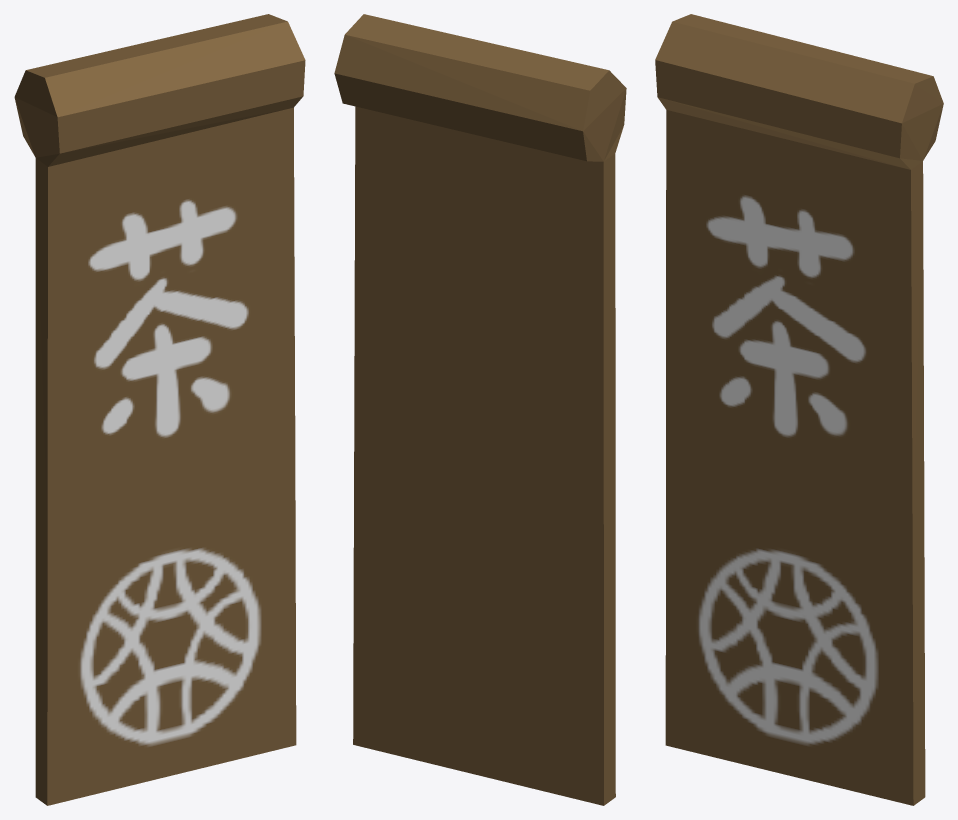
File: MarketStall_Flag_Tea.fbx
The picture shows the model from 3 angles, left to right: view 1: azimuth 30°, elevation 25°; view 2: azimuth 150°, elevation 25°; view 3: azimuth 330°, elevation 25°; orthographic projection.
Parts seen in each view (by area): view 1: MarketStall_Flag_Tea; view 2: MarketStall_Flag_Tea; view 3: MarketStall_Flag_Tea.
Boxes of the visible parts, box(x1,y1,x2,y2) form: MarketStall_Flag_Tea: box(14, 14, 305, 805); MarketStall_Flag_Tea: box(334, 14, 626, 805); MarketStall_Flag_Tea: box(655, 14, 943, 805).
Size of the model in its own units: 0.3827 by 1.06 by 0.1149.
Materials: 1 (1 with a texture image).
